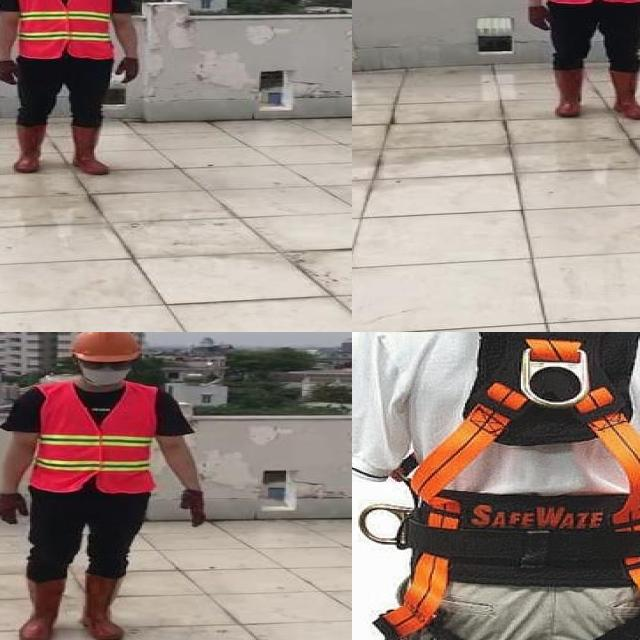Harness: (379, 332, 640, 640)
boots: (81, 571, 127, 640), (15, 577, 65, 640), (550, 66, 587, 118), (73, 124, 110, 175), (12, 122, 48, 173), (606, 71, 640, 121)
face_mask: (80, 357, 136, 386)
glasses: (78, 357, 135, 374)
hand_glove: (179, 489, 208, 527), (0, 491, 26, 526), (525, 7, 553, 33), (115, 56, 138, 84), (0, 60, 19, 85)
head_helmet: (512, 0, 640, 121), (66, 332, 144, 363)
person: (0, 332, 215, 640), (0, 0, 140, 175)
vest: (30, 382, 153, 493), (19, 0, 113, 60)
